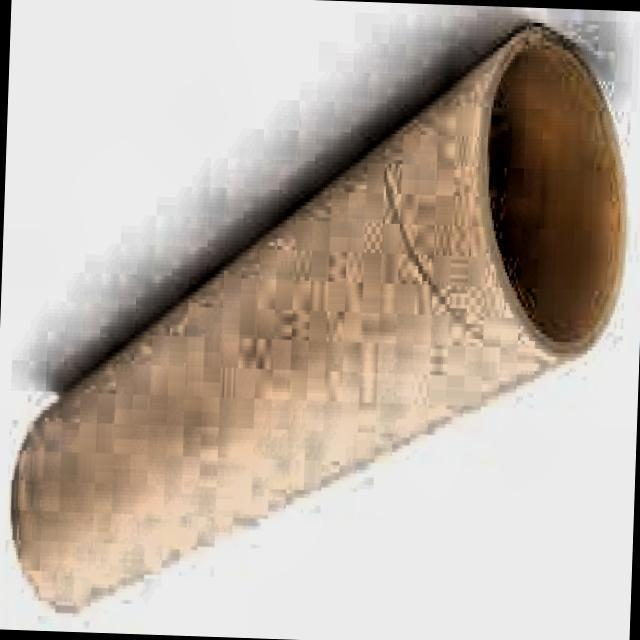cardboard: (6, 4, 635, 640)
